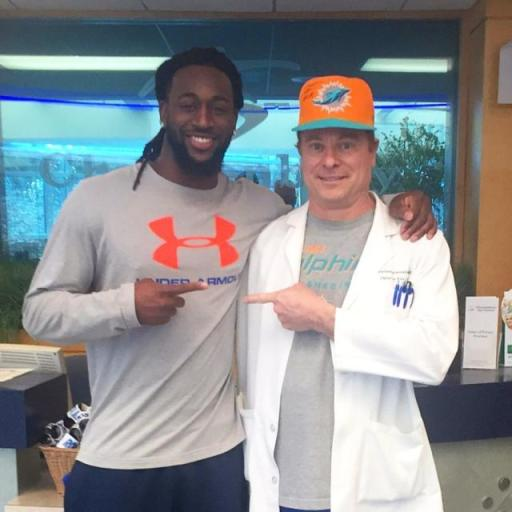Under Armour: (140, 213, 242, 292)
